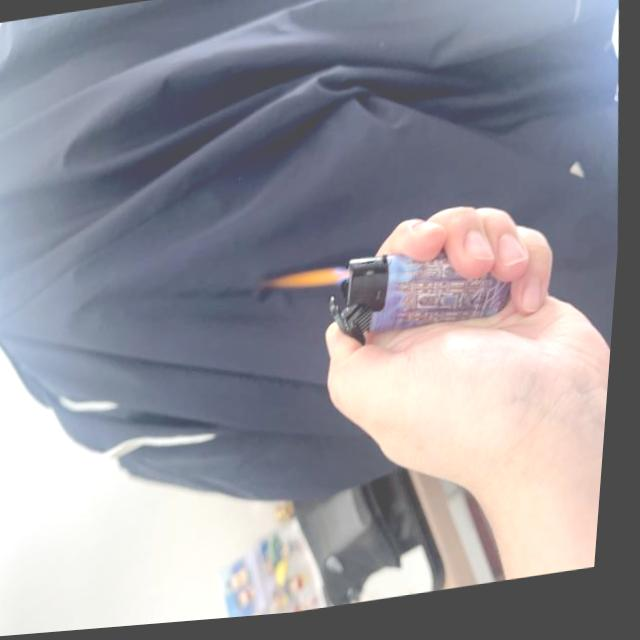helmet: (275, 268, 351, 300)
